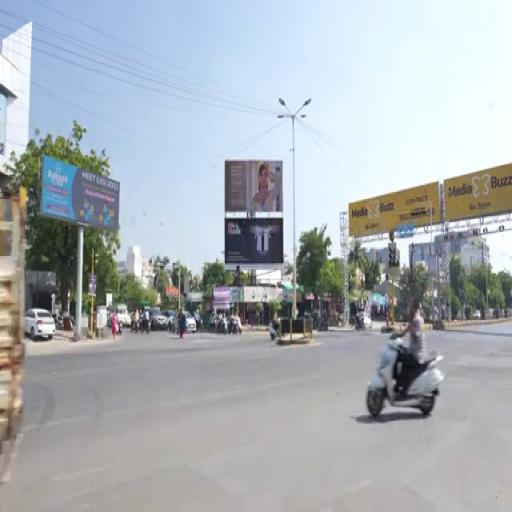Car: (24, 309, 55, 341), (149, 308, 167, 329), (116, 305, 131, 327), (184, 312, 196, 332), (164, 311, 175, 331)
